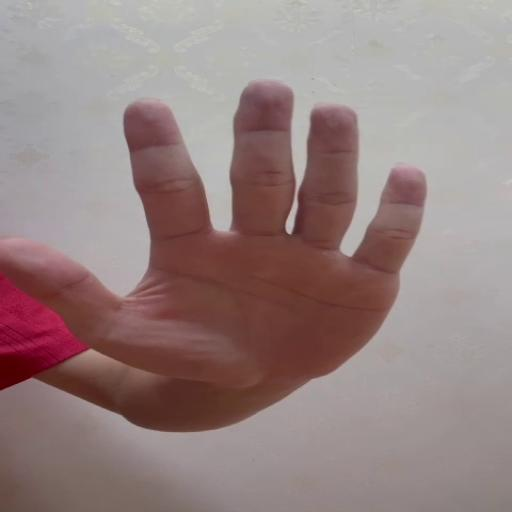open_palm: (0, 79, 429, 390)
